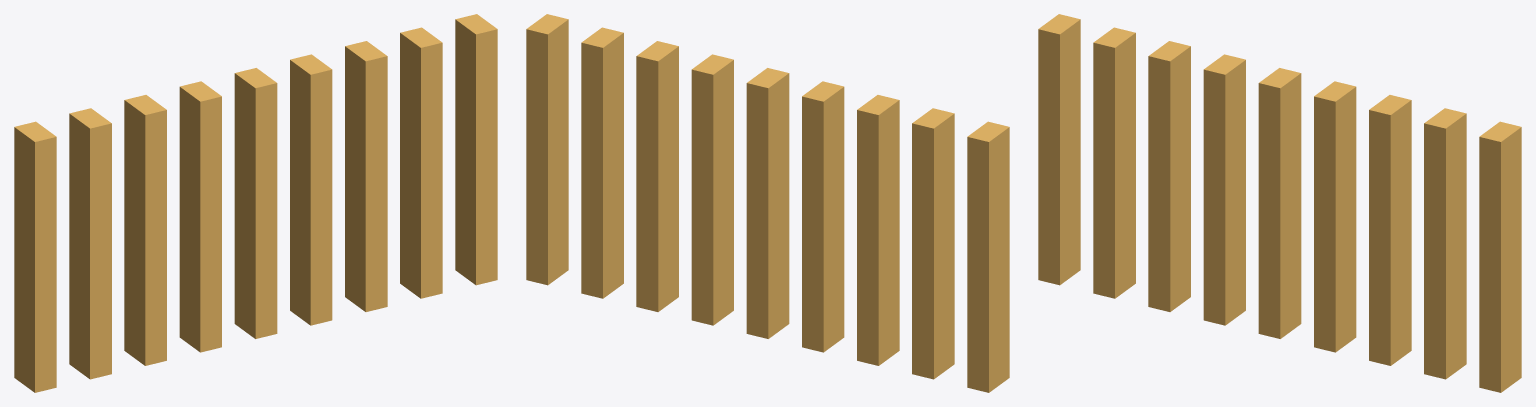
File: Partitions_021.glb
The picture shows the model from 3 angles, left to right: view 1: azimuth 30°, elevation 25°; view 2: azimuth 150°, elevation 25°; view 3: azimuth 330°, elevation 25°; orthographic projection.
Visible parts, largest first — view 1: Partitions_021; view 2: Partitions_021; view 3: Partitions_021.
Boxes of the visible parts, left/top/right/bottom form: Partitions_021: left=14, top=14, right=497, bottom=392; Partitions_021: left=526, top=14, right=1009, bottom=392; Partitions_021: left=1038, top=14, right=1521, bottom=392.
Size of the model in its own units: 1.93 by 1 by 0.15.
1 material, 1 textured.
